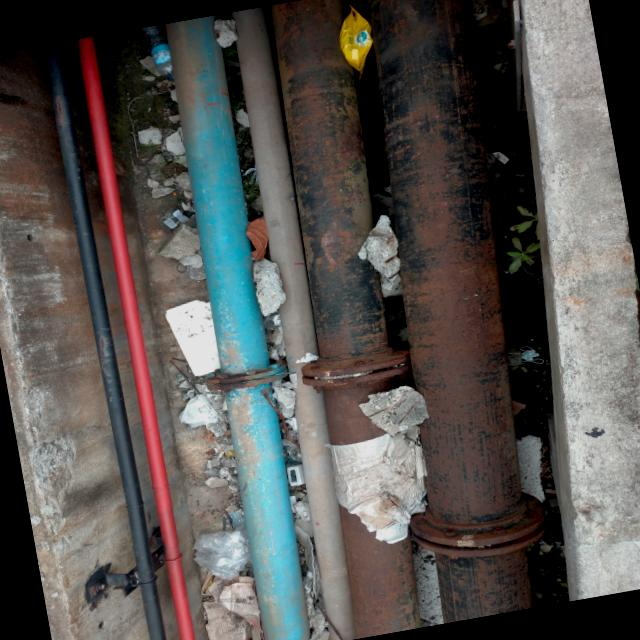gas: (369, 0, 532, 622), (270, 0, 419, 639), (165, 14, 308, 640), (227, 6, 353, 640), (44, 42, 163, 640), (79, 36, 194, 640)
